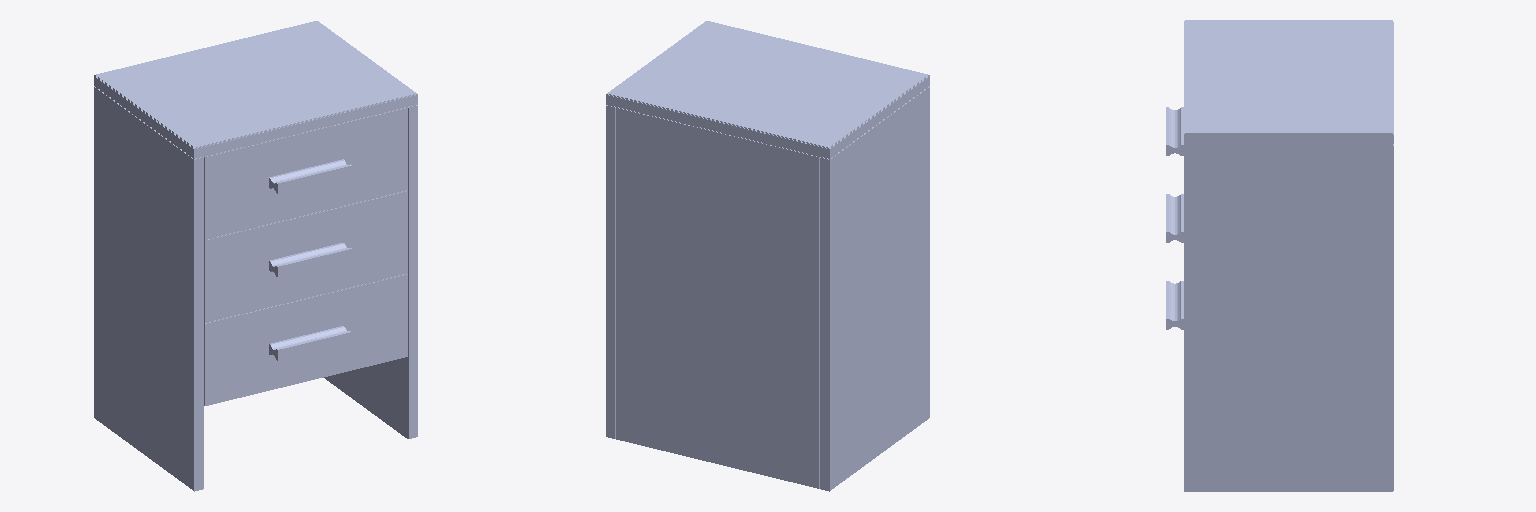
The robot description file, URDF, robot "table_bedside_chrome":
<robot
  name="table_bedside_chrome">
  <link
    name="table_bedside_chrome">
    <inertial>
      <origin
        xyz="-5.2934E-18 0.00745690000000002 0.36134"
        rpy="0 0 0" />
      <mass
        value="25.273" />
      <inertia
        ixx="1.42620511367159"
        ixy="8.23993651088983E-17"
        ixz="1.11022302462516E-16"
        iyy="1.67104044834985"
        iyz="0.0650135479032876"
        izz="1.09068949771313" />
    </inertial>
    <visual>
      <origin
        xyz="0 0 0"
        rpy="0 0 0" />
      <geometry>
        <mesh
          filename="package://table_bedside_chrome/meshes/table_bedside_chrome.dae" />
      </geometry>
      <material
        name="">
        <color
          rgba="0.79216 0.81961 0.93333 1" />
      </material>
    </visual>
    <collision>
      <origin
        xyz="0 0 0"
        rpy="0 0 0" />
      <geometry>
        <mesh
          filename="package://table_bedside_chrome/meshes/table_bedside_chrome.dae" />
      </geometry>
    </collision>
  </link>
</robot>

--- Render facts (derived) ---
3 views of the same robot in one strip: view 1: azimuth 30°, elevation 25°; view 2: azimuth 150°, elevation 25°; view 3: azimuth 270°, elevation 25° (orthographic).
Robot: table_bedside_chrome — 1 links, 0 joints (none); root link table_bedside_chrome; default pose: every joint at zero.
Visible links, largest first — view 1: table_bedside_chrome; view 2: table_bedside_chrome; view 3: table_bedside_chrome.
Boxes of the visible links, <box> form: table_bedside_chrome: <box>94,21,417,491</box>; table_bedside_chrome: <box>606,21,929,491</box>; table_bedside_chrome: <box>1166,20,1393,491</box>.
Size in the robot's own frame: 0.452 by 0.3813 by 0.6613 metres.
1 mesh visuals loaded from 1 distinct referenced files (1 Collada DAE).